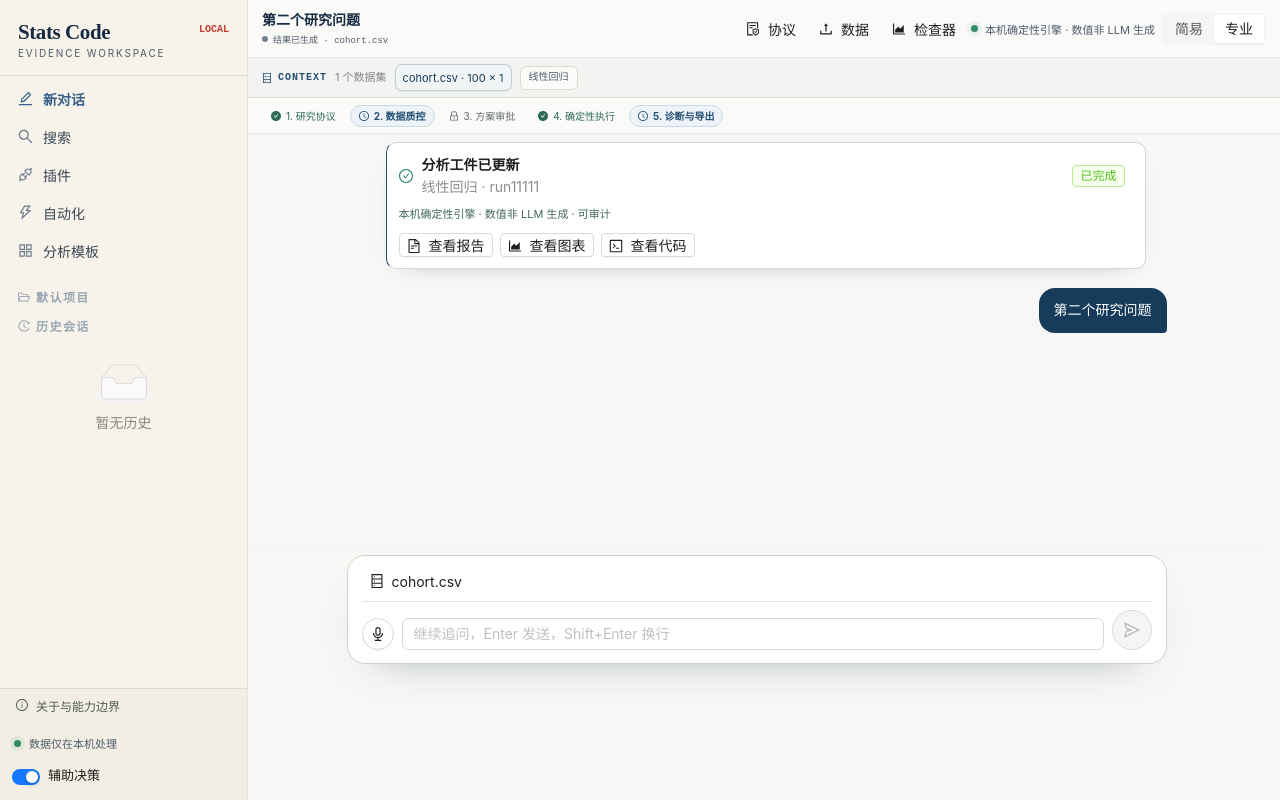
Test: ProModeView (Requirements 4.1, 4.3) › keeps the latest report title bound to its own question while the next answer is pending
(page scrolled)
Check: the text titled "第二个研究问题" in the row of "简易" is shown, box [262,11,360,28]
Click the button with aria-label "打开分析检查器". click: (924, 28)
box: [884,16,964,40]
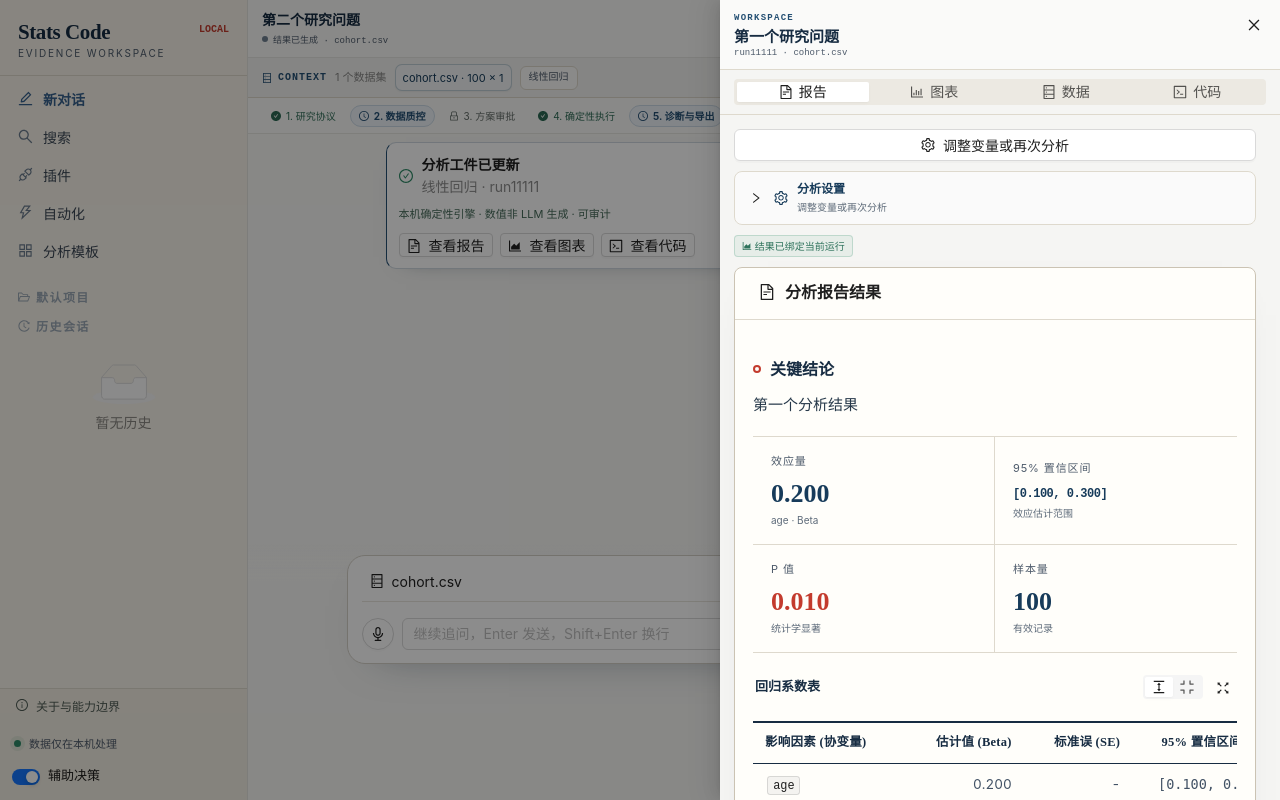
Check: the element named "分析检查器" is shown, box [720,0,1279,799]
Check: the text "第一个研究问题" is shown, box [734,29,839,45]
Check: the text "第一个分析结果" is shown, box [753,395,858,414]
